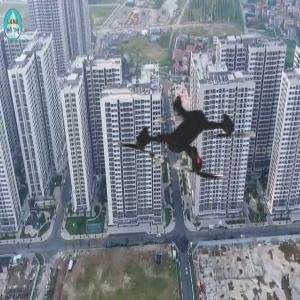drone: (90, 44, 284, 238)
